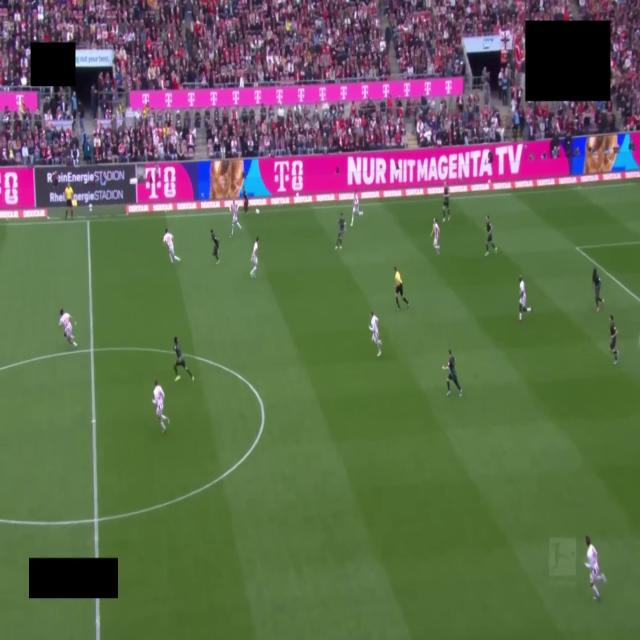ball: (256, 208, 259, 214)
player: (585, 536, 606, 599), (173, 337, 194, 381), (152, 380, 169, 432), (443, 350, 462, 396), (59, 309, 77, 348), (163, 229, 180, 263), (369, 312, 381, 357), (592, 267, 604, 311), (519, 277, 531, 321), (609, 315, 619, 364), (485, 216, 497, 255), (230, 200, 241, 237), (351, 192, 362, 226), (335, 214, 345, 249), (430, 218, 439, 255), (250, 238, 258, 278), (210, 230, 219, 263), (443, 183, 450, 222), (243, 190, 248, 214)
referee: (394, 267, 409, 309)
